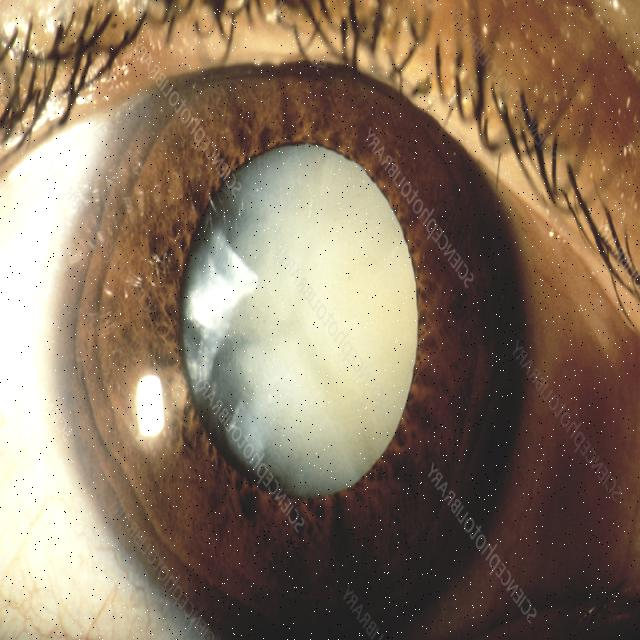Cataract: (48, 66, 540, 580)
